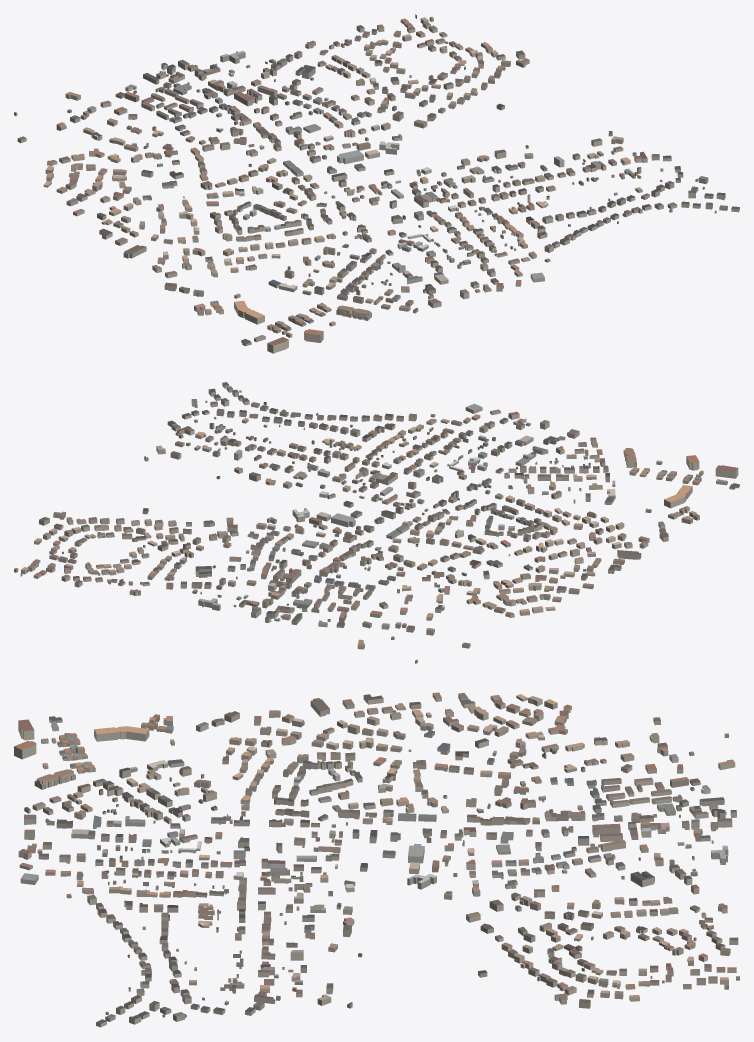
3 views of the same model, one above another, from view 1: azimuth 30°, elevation 25°; view 2: azimuth 150°, elevation 25°; view 3: azimuth 270°, elevation 25° (orthographic). The views are drawn at different scales.
Parts seen in each view (by area): view 1: tuile; view 2: tuile; view 3: tuile.
Boxes of the visible parts, left/top/right/bottom form: tuile: left=14, top=14, right=739, bottom=353; tuile: left=14, top=382, right=739, bottom=663; tuile: left=14, top=692, right=739, bottom=1027.
Size of the model in its own units: 1016 by 56.08 by 1014.
